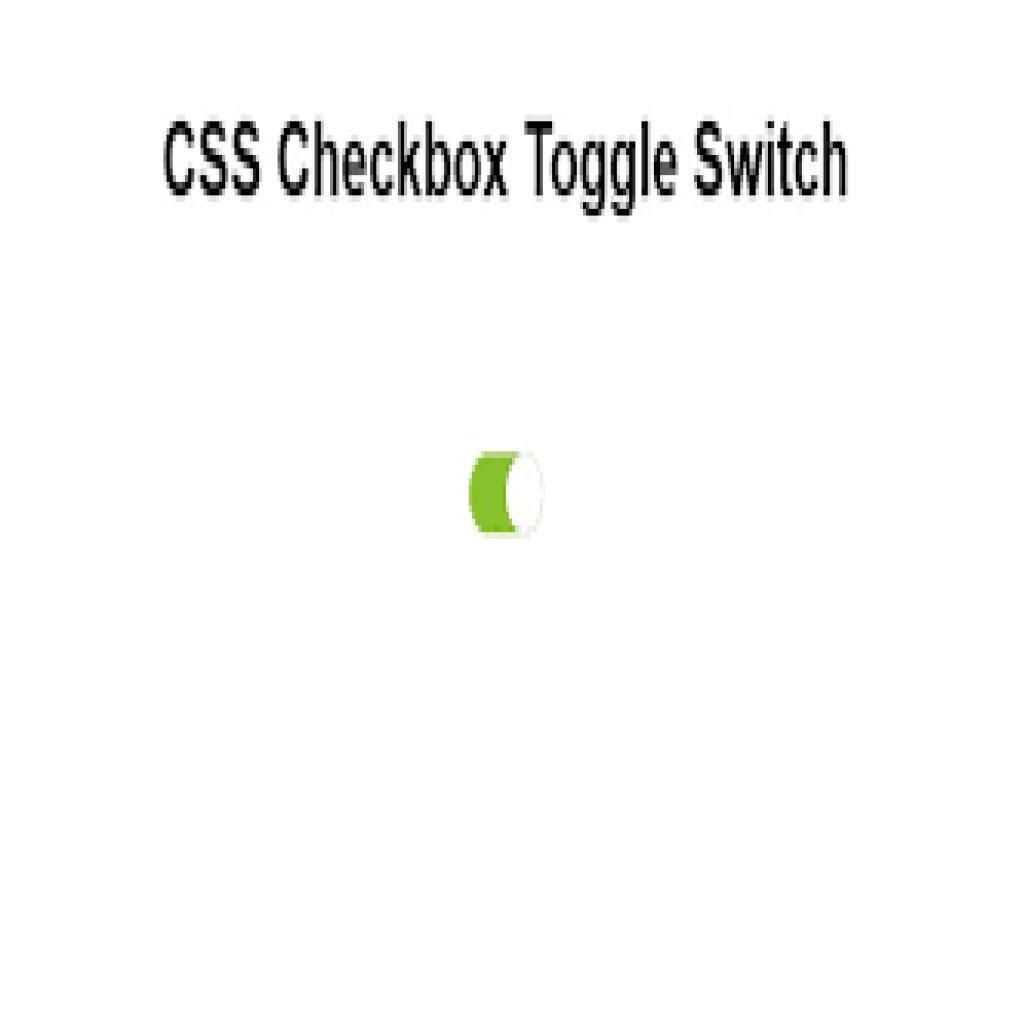switch: (468, 453, 545, 537)
